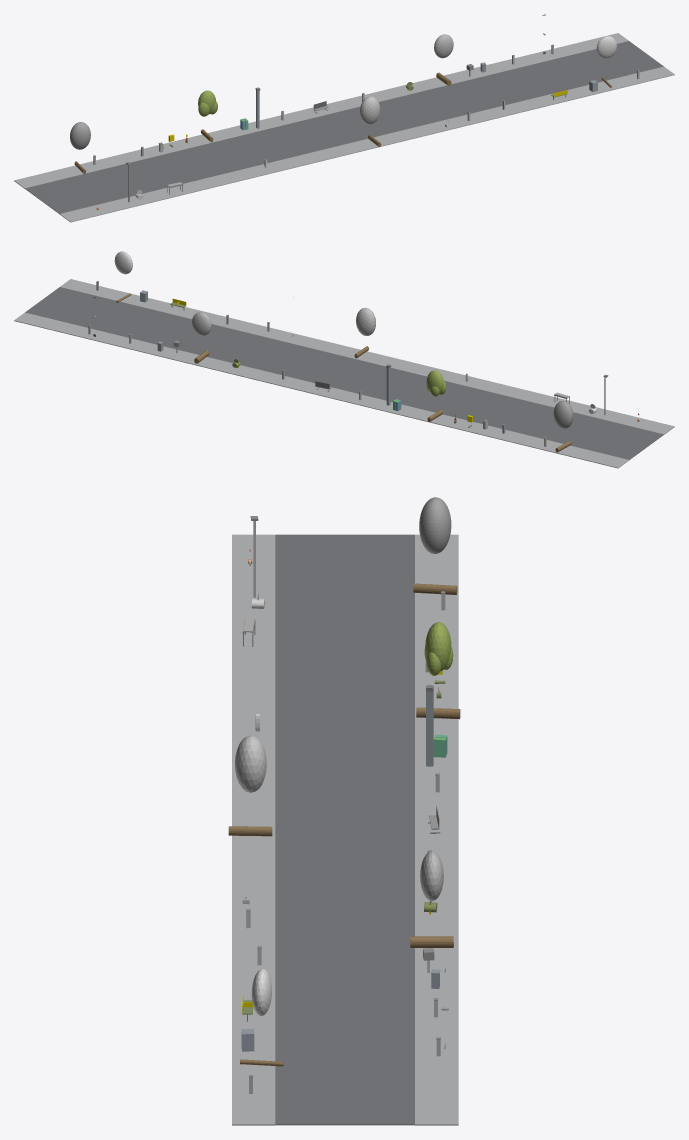
The picture shows the model from 3 angles, top to bottom: view 1: azimuth 30°, elevation 25°; view 2: azimuth 150°, elevation 25°; view 3: azimuth 270°, elevation 25°; orthographic projection. The views are drawn at different scales.
Parts seen in each view (by area): view 1: road_slab, sidewalk_left, sidewalk_right, inst_0014, inst_0012, inst_0013, inst_0015, inst_0016; view 2: road_slab, sidewalk_right, sidewalk_left, inst_0012, inst_0014, inst_0013, inst_0015, inst_0016; view 3: road_slab, sidewalk_left, sidewalk_right, inst_0014, inst_0012, inst_0013, inst_0015, inst_0016.
Part boxes in pixels (left/top/right/bottom): road_slab: left=25, top=41, right=663, bottom=213; sidewalk_left: left=59, top=66, right=674, bottom=222; sidewalk_right: left=14, top=33, right=628, bottom=188; inst_0014: left=360, top=96, right=381, bottom=147; inst_0012: left=70, top=122, right=90, bottom=173; inst_0013: left=198, top=90, right=217, bottom=142; inst_0015: left=434, top=34, right=453, bottom=85; inst_0016: left=596, top=36, right=616, bottom=87; road_slab: left=25, top=287, right=663, bottom=459; sidewalk_right: left=14, top=312, right=629, bottom=468; sidewalk_left: left=60, top=279, right=674, bottom=434; inst_0012: left=553, top=401, right=573, bottom=452; inst_0014: left=354, top=307, right=375, bottom=358; inst_0013: left=426, top=370, right=446, bottom=421; inst_0015: left=192, top=312, right=211, bottom=363; inst_0016: left=114, top=251, right=132, bottom=302; road_slab: left=275, top=534, right=414, bottom=1125; sidewalk_left: left=232, top=534, right=275, bottom=1125; sidewalk_right: left=415, top=534, right=458, bottom=1125; inst_0014: left=228, top=735, right=272, bottom=836; inst_0012: left=413, top=497, right=457, bottom=594; inst_0013: left=416, top=622, right=460, bottom=719; inst_0015: left=410, top=851, right=453, bottom=947; inst_0016: left=240, top=968, right=283, bottom=1066.
Bounding box in the file's own units: 80 × 6.08 × 13.29.
